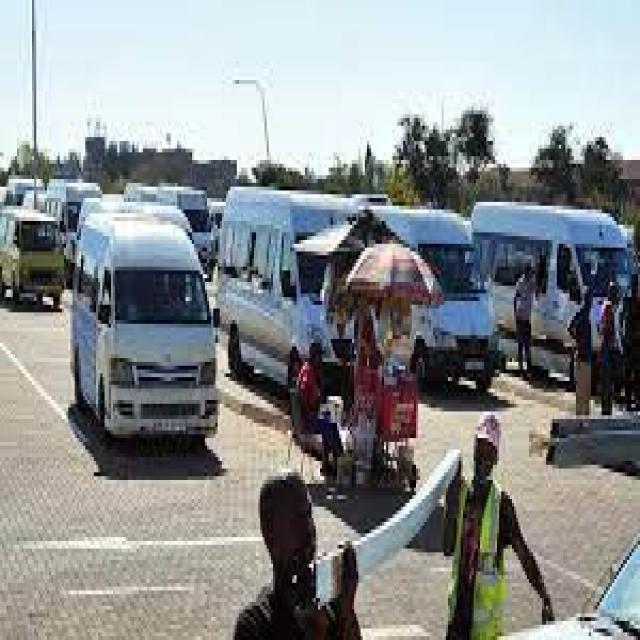MiniBus taxi: (70, 210, 224, 453)
